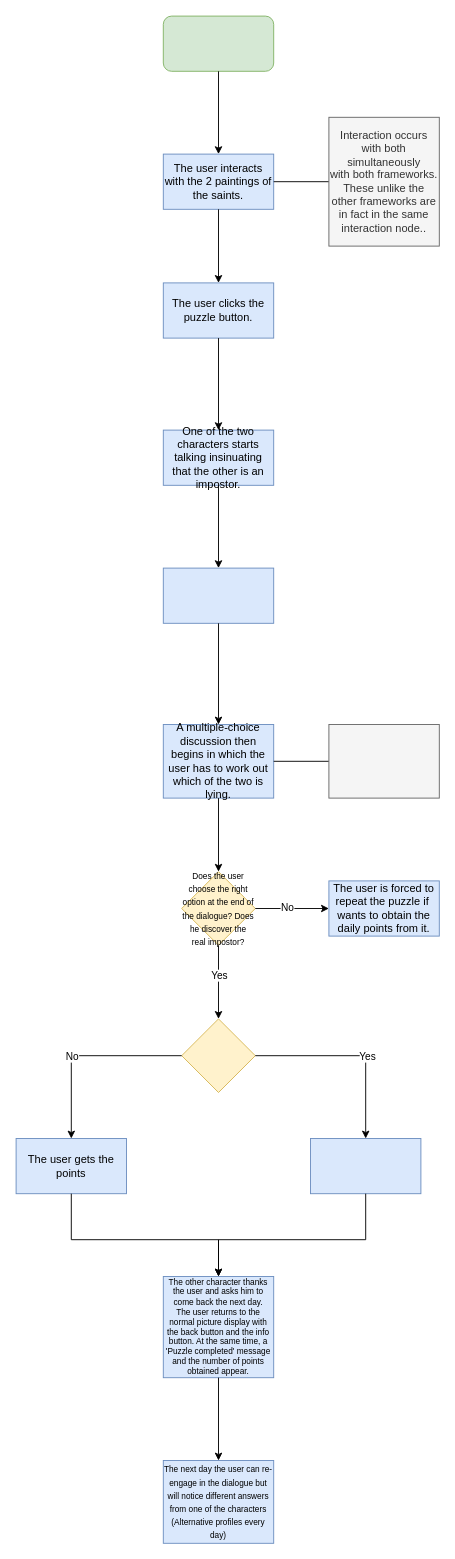
The diagram is 455 pixels wide and 1559 high, and some of its shapes have lost their labels. Here are the shapes that lost their labels. From the top down, the centre of each, then its label:
point 218,43: Start
point 218,595: The other character then defends himself by asking the user for help
point 383,761: The user may choose a maximum number of answers per dialogue line between 2-4
point 218,1055: Has the user already obtained the daily points from the puzzle?
point 365,1166: The user does not get the points
